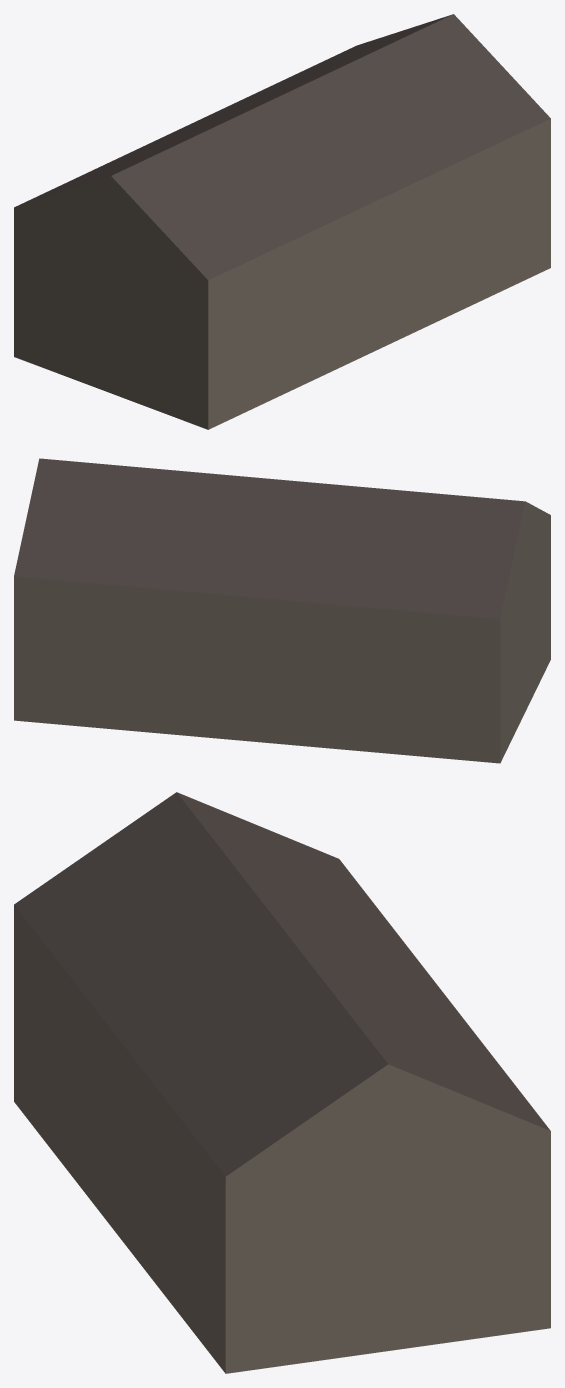
3 views of the same model, one above another, from view 1: azimuth 30°, elevation 25°; view 2: azimuth 150°, elevation 25°; view 3: azimuth 270°, elevation 25° (orthographic). The views are drawn at different scales.
Parts seen in each view (by area): view 1: HP-w299224154; view 2: HP-w299224154; view 3: HP-w299224154.
Boxes of the visible parts, x1,y1,x2,y2 form: HP-w299224154: [14, 14, 550, 429]; HP-w299224154: [14, 458, 550, 763]; HP-w299224154: [14, 792, 550, 1373].
Size of the model in its own units: 31.12 by 13.09 by 22.22.
